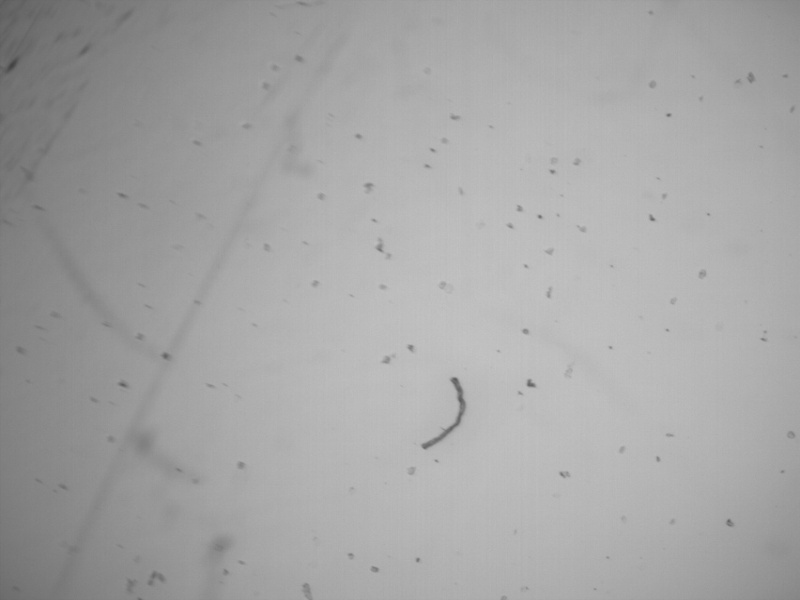fiber: (416, 373, 466, 451)
